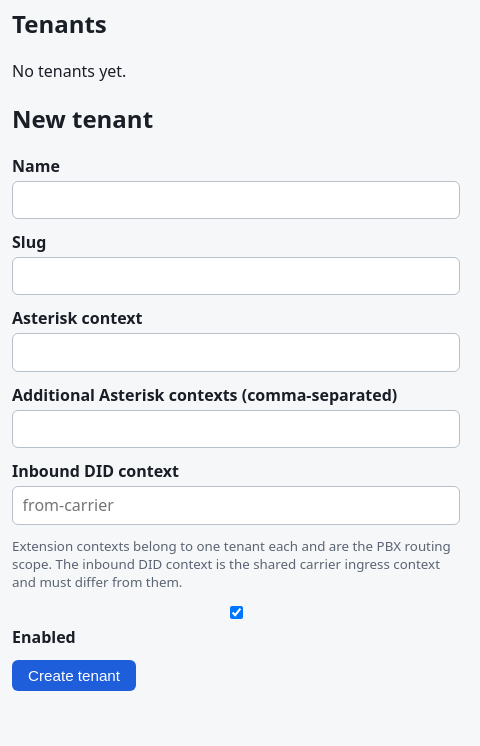
TenantsScreen › surfaces a context claimed by another tenant
In the field labelled "Name": (236, 200) [12, 181, 460, 219], type "Other"
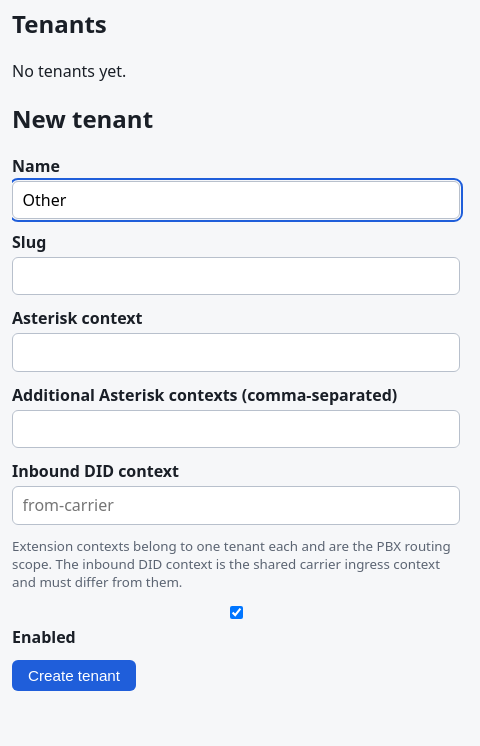
In the field labelled "Slug": (236, 276) [12, 257, 460, 295], type "other"
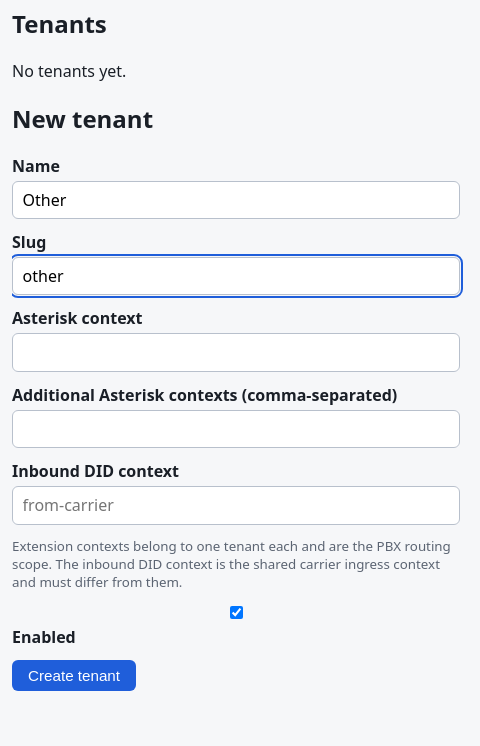
In the field labelled "Asterisk context": (236, 353) [12, 333, 460, 372], type "acme"
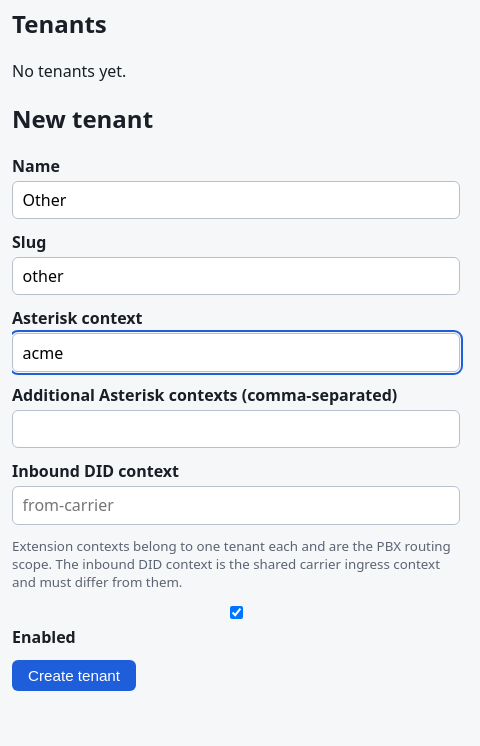
Click the button "Create tenant": click(74, 675) [12, 660, 136, 691]
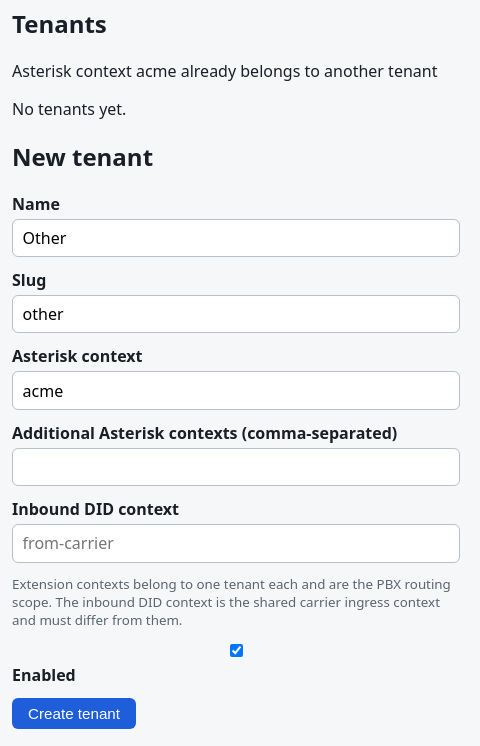
Expected: the message shows "already belongs to another tenant", [12, 60, 438, 82]
